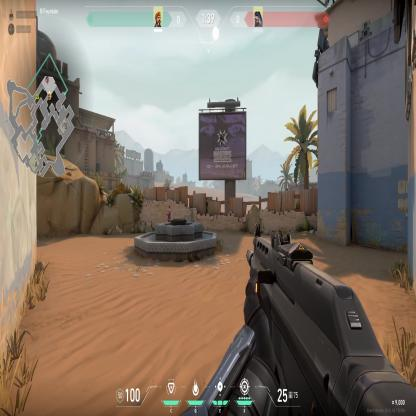enemy: (166, 204, 171, 221)
